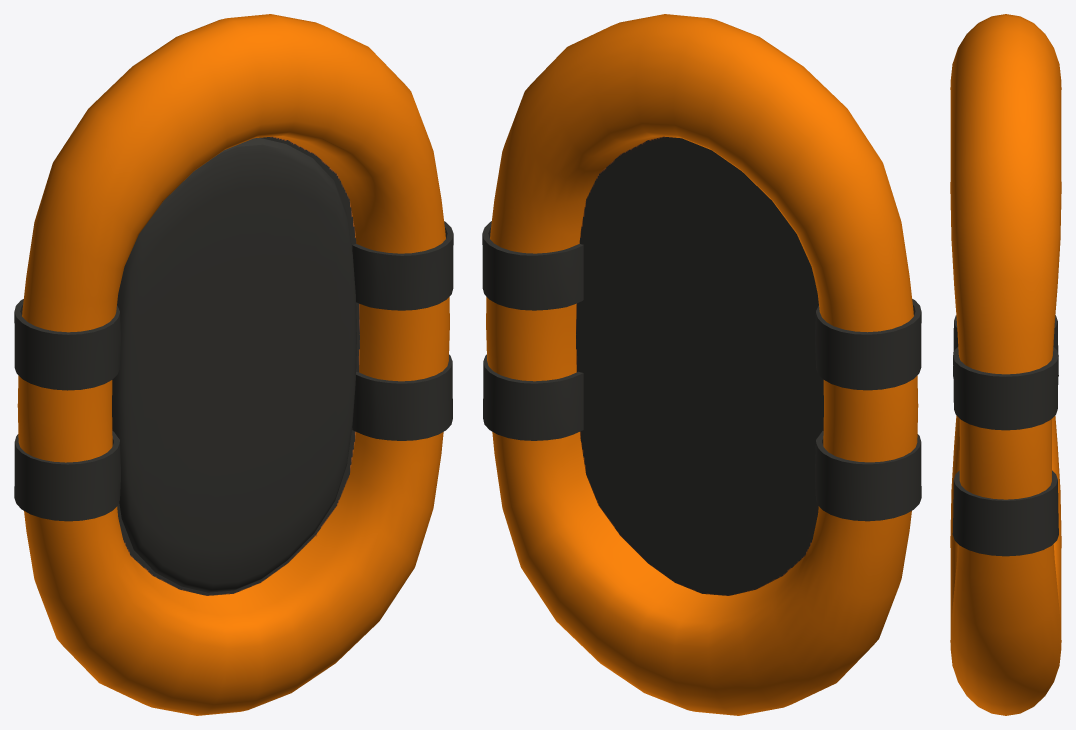
File: PerahuKaretOrange.fbx
3 views of the same model, side by side, from view 1: azimuth 30°, elevation 25°; view 2: azimuth 150°, elevation 25°; view 3: azimuth 270°, elevation 25° (orthographic). The views are drawn at different scales.
Visible parts, largest first — view 1: Perahu; view 2: Perahu; view 3: Perahu.
Boxes of the visible parts, x1,y1,x2,y2 form: Perahu: (14, 14, 453, 715); Perahu: (482, 14, 921, 715); Perahu: (950, 14, 1061, 715).
Size of the model in its own units: 124 by 192 by 28.98.
Materials: 1 (1 with a texture image).
